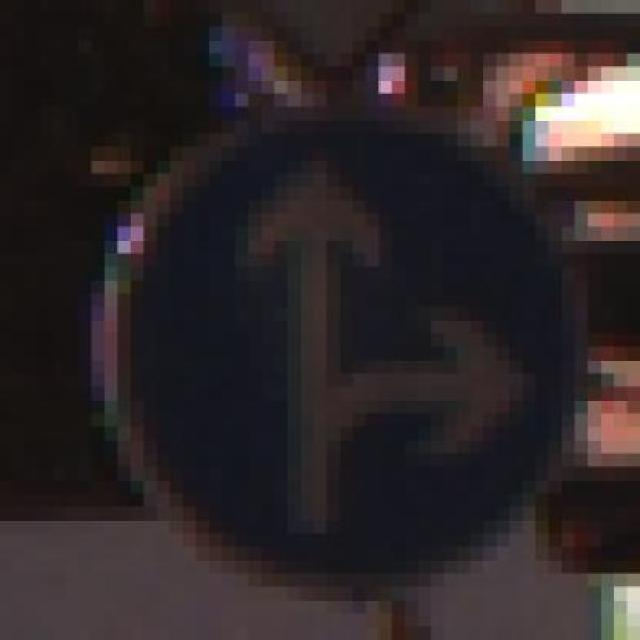Go Straight or Turn Right: (92, 106, 600, 560)
